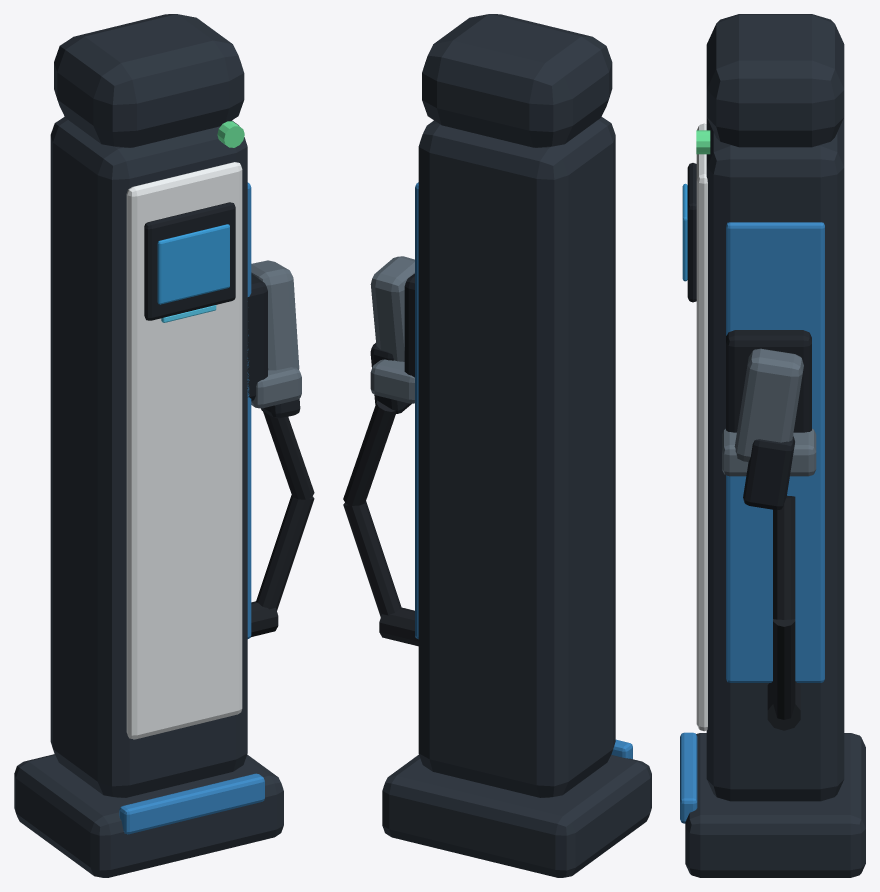
Rendered from EVChargingStation.glb.
3 renders of one model, left to right at view 1: azimuth 30°, elevation 25°; view 2: azimuth 150°, elevation 25°; view 3: azimuth 270°, elevation 25°, orthographic.
Visible parts, largest first — view 1: EVStation_StaticBodyMesh, EV_Screen, EV_ChargingConnector, EV_CableLower, EV_ConnectorDock, EV_CableUpper, EV_ConnectorCradle, EV_CableStrainRelief; view 2: EVStation_StaticBodyMesh, EV_ChargingConnector, EV_CableLower, EV_CableUpper, EV_ConnectorCradle, EV_CableStrainRelief, EV_ConnectorDock, EV_ConnectorGrip; view 3: EVStation_StaticBodyMesh, EV_ChargingConnector, EV_ConnectorDock, EV_ConnectorGrip, EV_CableUpper, EV_CableLower, EV_ConnectorCradle, EV_CableStrainRelief, EV_Screen.
Part boxes in pixels (x1,y1,x2,y2): EVStation_StaticBodyMesh: (14,14,283,877); EV_Screen: (157,224,229,304); EV_ChargingConnector: (251,260,299,370); EV_CableLower: (256,495,314,610); EV_ConnectorDock: (247,273,267,400); EV_CableUpper: (263,411,314,499); EV_ConnectorCradle: (251,367,301,408); EV_CableStrainRelief: (251,601,278,636); EVStation_StaticBodyMesh: (382,14,651,877); EV_ChargingConnector: (370,256,414,361); EV_CableLower: (343,501,401,616); EV_CableUpper: (343,400,395,506); EV_ConnectorCradle: (370,359,414,403); EV_CableStrainRelief: (379,607,418,646); EV_ConnectorDock: (404,273,414,377); EV_ConnectorGrip: (370,343,411,413); EVStation_StaticBodyMesh: (680,14,865,877); EV_ChargingConnector: (734,348,803,461); EV_ConnectorDock: (726,330,811,432); EV_ConnectorGrip: (743,436,794,510); EV_CableUpper: (773,495,795,619); EV_CableLower: (773,619,795,719); EV_ConnectorCradle: (722,428,816,476); EV_CableStrainRelief: (767,681,800,730); EV_Screen: (682,183,687,281).
Bounding box in the file's own units: 0.7156 × 2.05 × 0.432.
